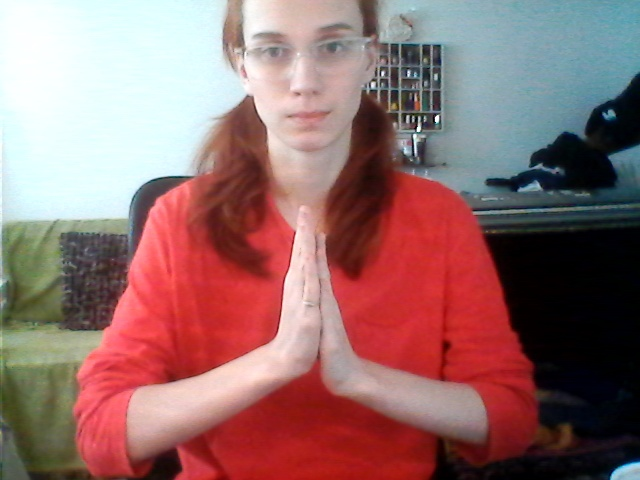prosim: (203, 204, 411, 417)
